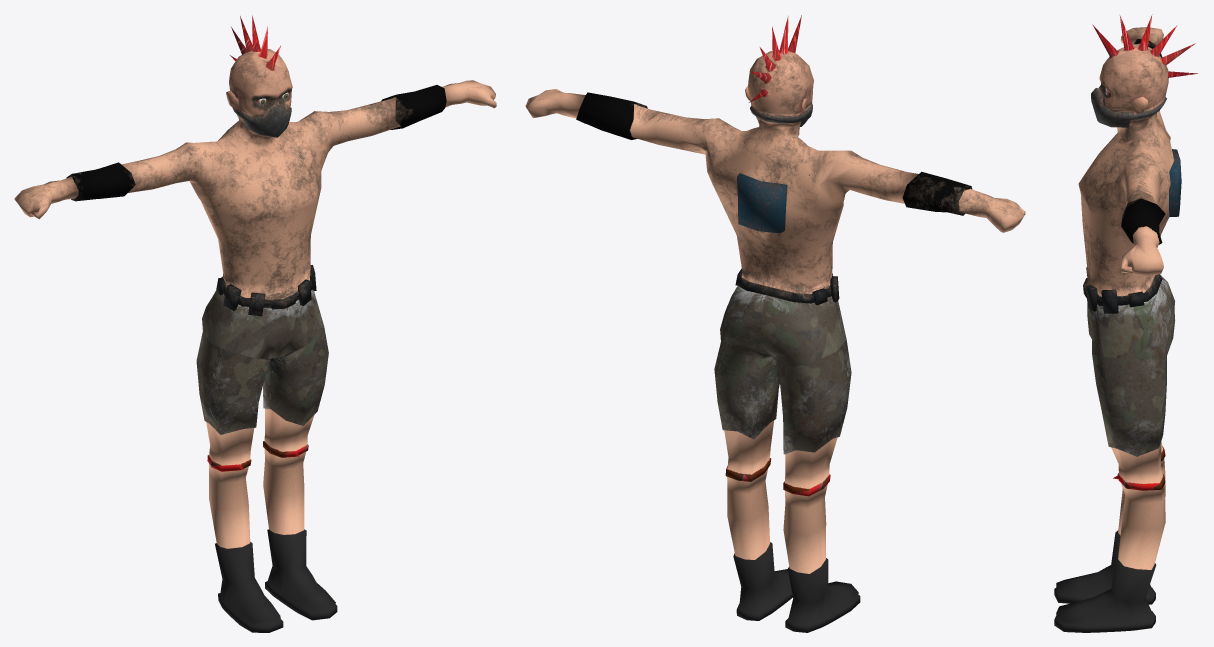
Rendered from npc2_anim.0002.obj.
The picture shows the model from 3 angles, left to right: view 1: azimuth 30°, elevation 25°; view 2: azimuth 150°, elevation 25°; view 3: azimuth 270°, elevation 25°; orthographic projection. The views are drawn at different scales.
Parts seen in each view (by area): view 1: polySurface1; view 2: polySurface1; view 3: polySurface1.
Part boxes in pixels (x1,y1,x2,y2): polySurface1: (14,15,496,632); polySurface1: (525,15,1025,632); polySurface1: (1054,14,1197,632).
Bounding box in the file's own units: 8.77 × 10.23 × 2.25.
Materials: 2 (2 with a texture image).
